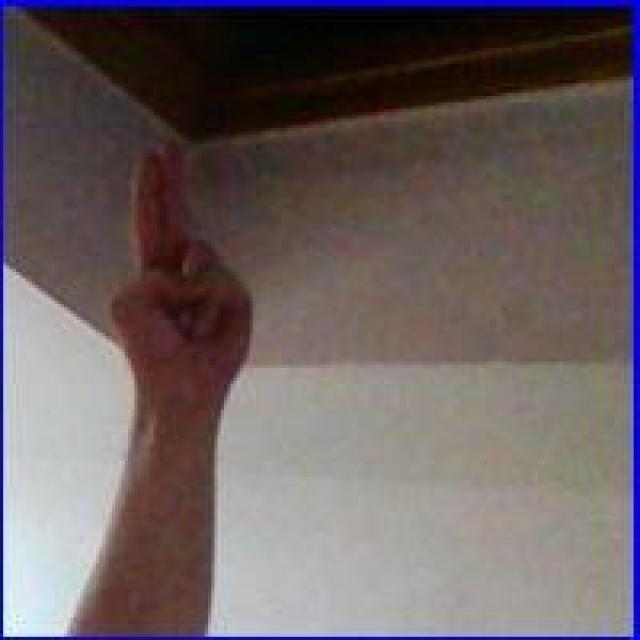U: (104, 136, 261, 418)
